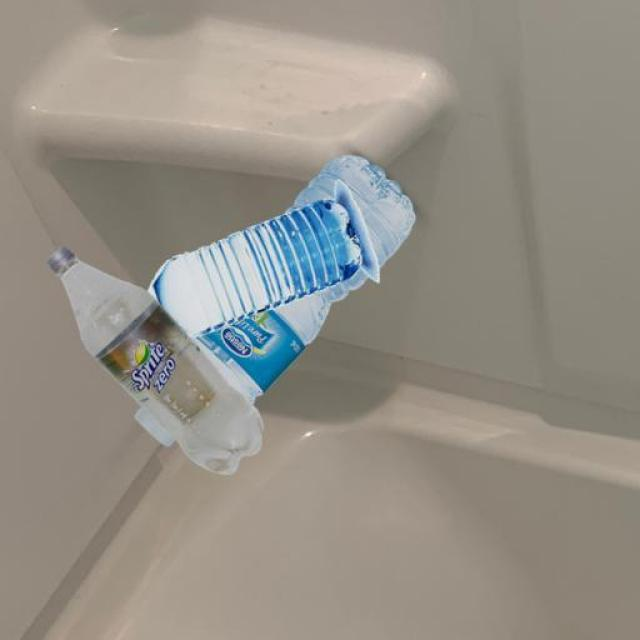bottle: (18, 169, 400, 482)
